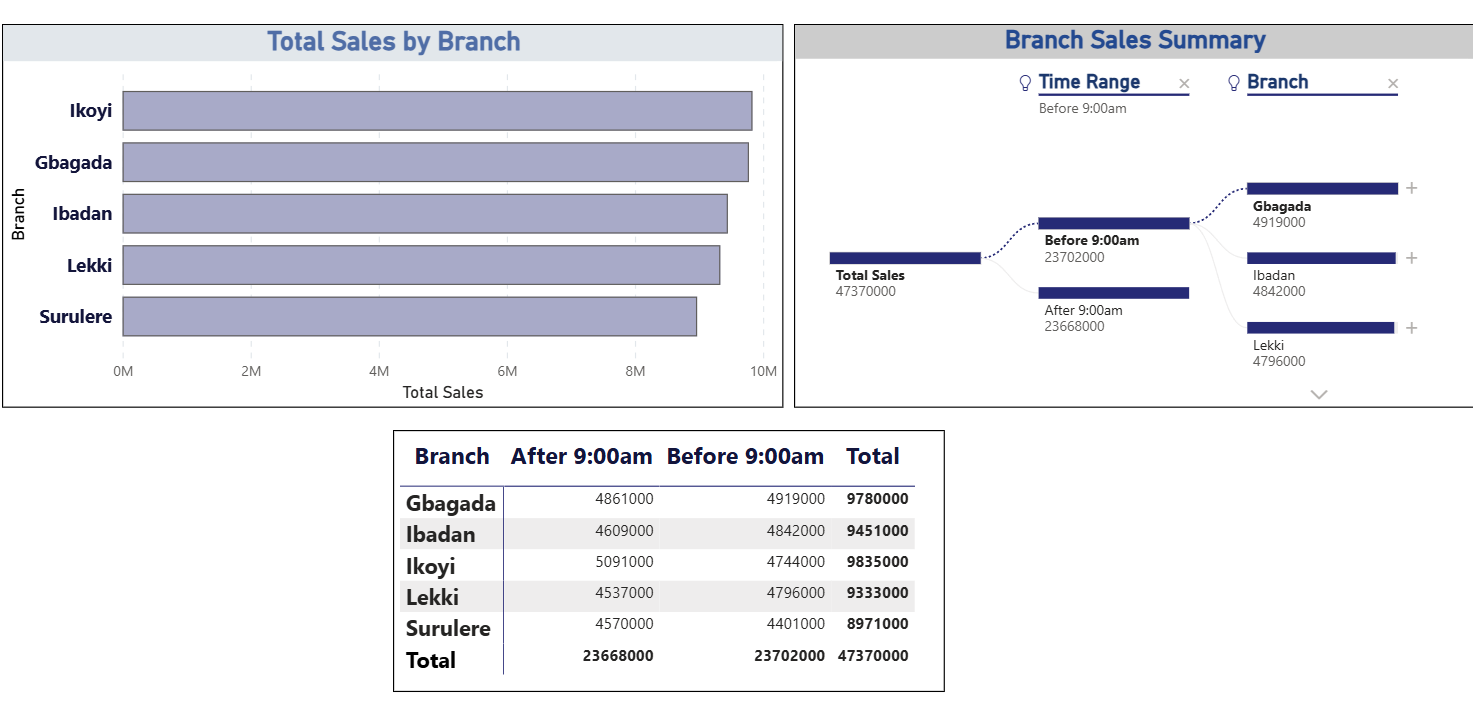

The page's visual inventory and layout, read from the dashboard file:
{"tool":"powerbi","page":{"name":"Diagnostic Analysis","canvas":[1280,720],"ordinal":2},"visuals":[{"type":"clusteredBarChart","fields":{"Category":["Sales Data.Branch"],"Y":["Sales Data.Total Sales"]},"box":[9.3,80.2,674.4,331.4],"z":0},{"type":"pivotTable","fields":{"Rows":["Sales Data.Branch"],"Columns":["Sales Data.Time Range"],"Values":["Sales Data.Total Sales"]},"box":[346.5,430.2,475.6,225.6],"z":1000},{"type":"decompositionTreeVisual","title":"Branch Sales Summary","fields":{"Analyze":["Sales Data.Total Sales"],"ExplainBy":["Sales Data.Time Range","Sales Data.Branch","Sales Data.Pizza Sold"]},"box":[693,80.2,587.2,331.4],"z":2000},{"type":"textbox","box":[125,667.5,972.5,52.5],"z":3000}]}

Visuals, with their boxes on the page's 1280x720 design canvas (x1, y1, x2, y2). These are canvas units, not pixel positions in the 1473x705 screenshot, which may show the page scaled, cropped or inside an application window:
clusteredBarChart - Sales Data.Branch x Sales Data.Total Sales: box(9, 80, 684, 412)
pivotTable - Sales Data.Branch x Sales Data.Time Range: box(346, 430, 822, 656)
"Branch Sales Summary" decompositionTreeVisual: box(693, 80, 1280, 412)
textbox: box(125, 668, 1098, 720)
